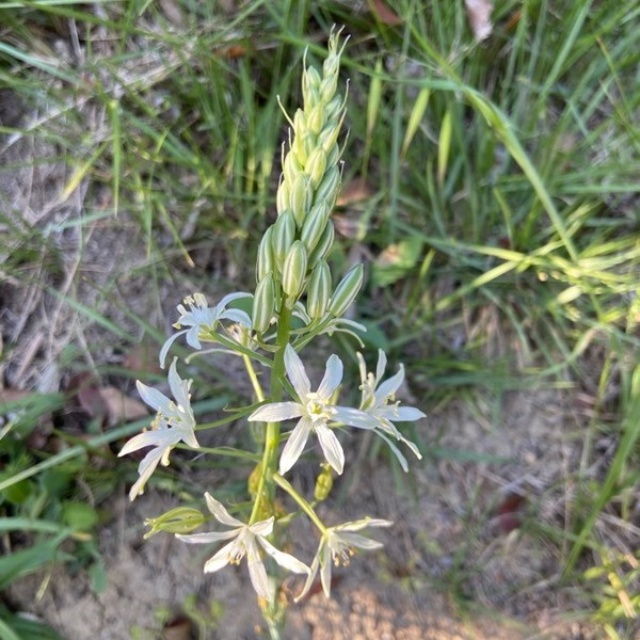obstacle: (154, 78, 432, 602)
